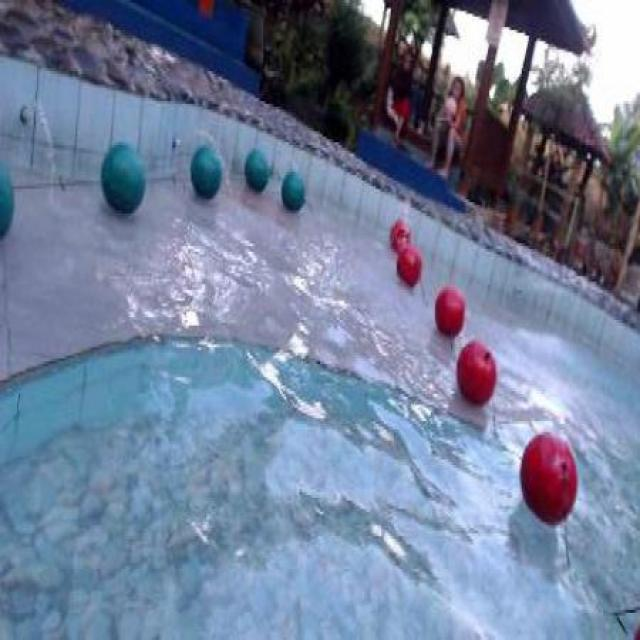buoy: (518, 430, 577, 527), (100, 141, 146, 215), (456, 341, 496, 403), (189, 144, 221, 200), (434, 284, 464, 335), (396, 242, 422, 288), (244, 147, 268, 191), (281, 172, 304, 211), (390, 220, 410, 250)
